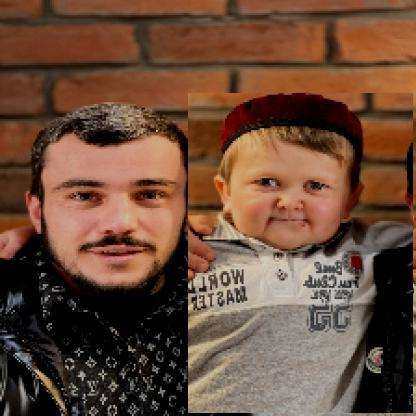child: (189, 94, 415, 415)
